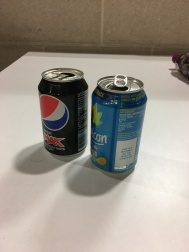can_black: (27, 58, 92, 168)
can_blue: (90, 70, 146, 191)
